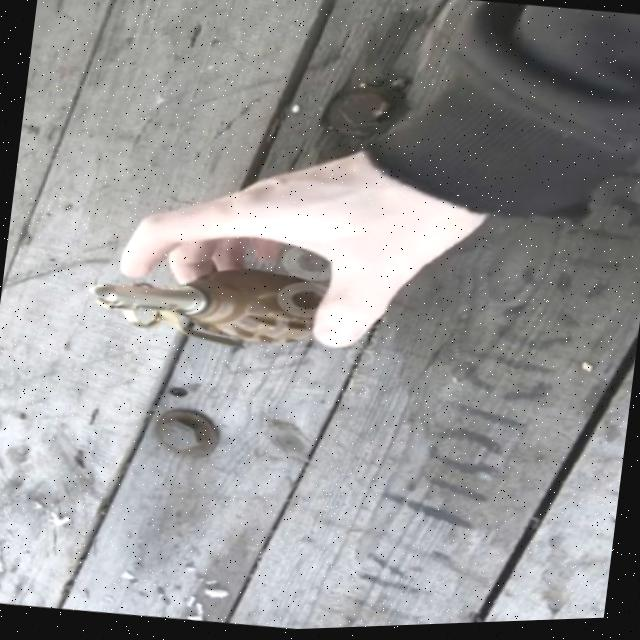grenade: (86, 241, 353, 369)
